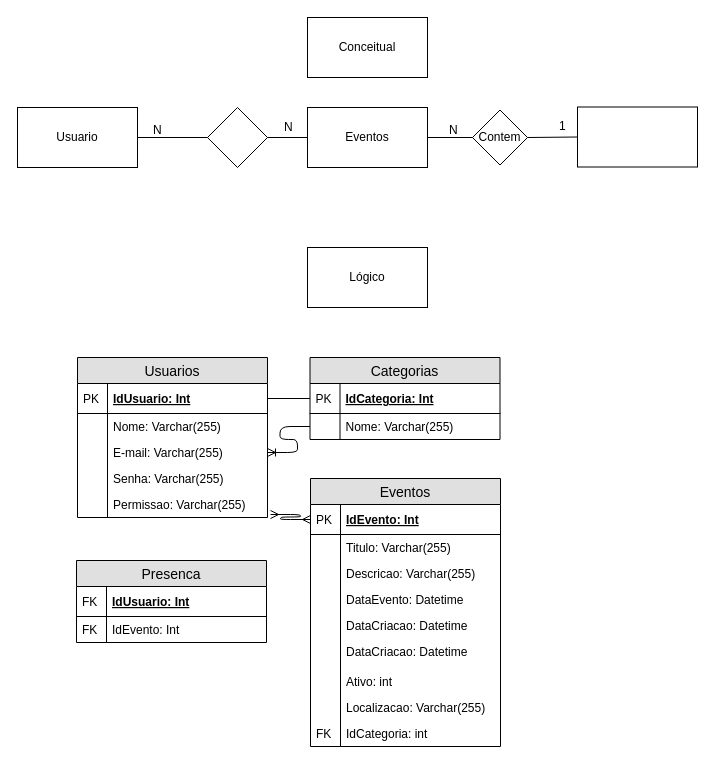
The diagram is 715 pixels wide and 767 high, and some of its shapes have lost their labels. The shapes that lost their labels are listed below. From the top down, each one's centre as x and y in pixels, then its label:
point (237, 137): Participa
point (637, 136): Categoria
